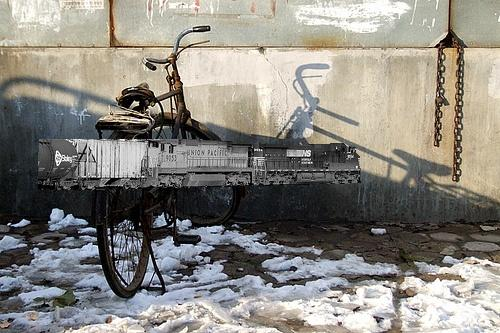tampered: (39, 140, 361, 190)
